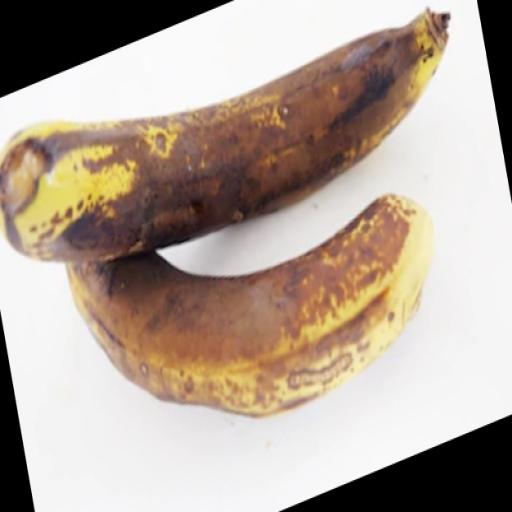banana-overripe: (0, 7, 497, 425)
